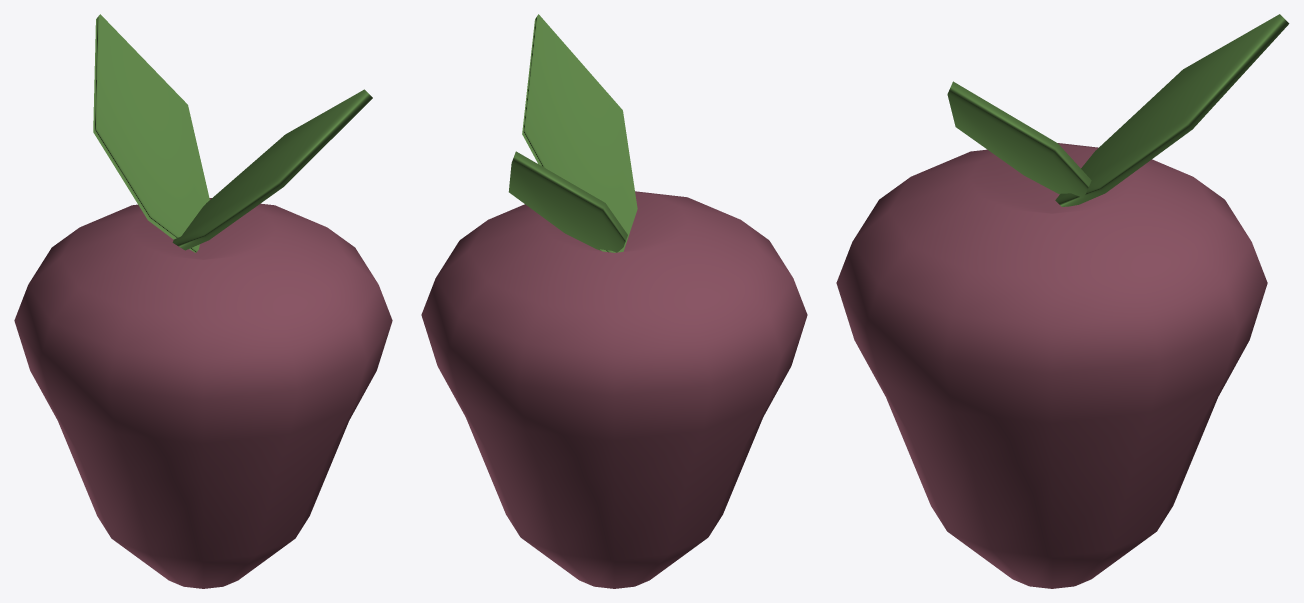
The model's file is apple.fbx.
The picture shows the model from 3 angles, left to right: view 1: azimuth 30°, elevation 25°; view 2: azimuth 150°, elevation 25°; view 3: azimuth 270°, elevation 25°; orthographic projection. The views are drawn at different scales.
Parts seen in each view (by area): view 1: apple1; view 2: apple1; view 3: apple1.
Boxes of the visible parts, bbox=[...] form: apple1: bbox=[14, 14, 392, 588]; apple1: bbox=[421, 14, 807, 588]; apple1: bbox=[836, 14, 1289, 588].
Size of the model in its own units: 0.2425 by 0.3489 by 0.2548.
